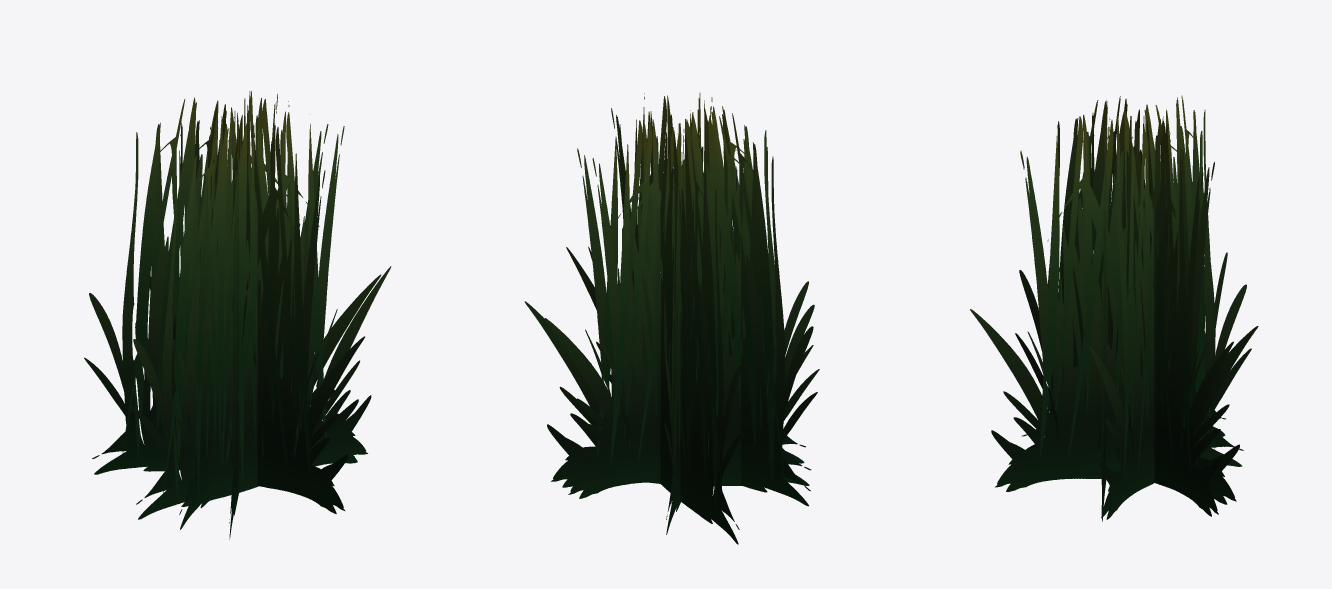
Rendered from gramaalta2.fbx.
3 views of the same model, side by side, from view 1: azimuth 30°, elevation 25°; view 2: azimuth 150°, elevation 25°; view 3: azimuth 270°, elevation 25° (orthographic).
Visible parts, largest first — view 1: gramaalta; view 2: gramaalta; view 3: gramaalta.
Boxes of the visible parts, x1,y1,x2,y2 form: gramaalta: (84, 91, 391, 539); gramaalta: (524, 93, 819, 544); gramaalta: (970, 95, 1258, 521).
Size of the model in its own units: 0.5897 by 0.59 by 0.56.
1 material, 1 textured.
